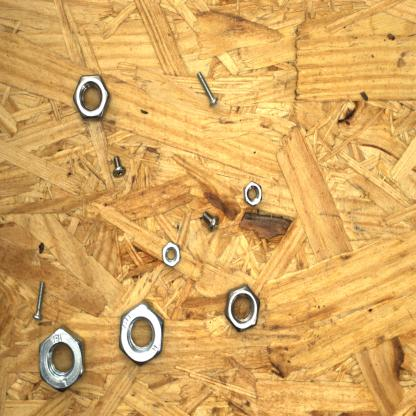screw: (194, 66, 224, 112), (30, 278, 48, 324), (198, 207, 223, 236), (110, 152, 131, 184)
